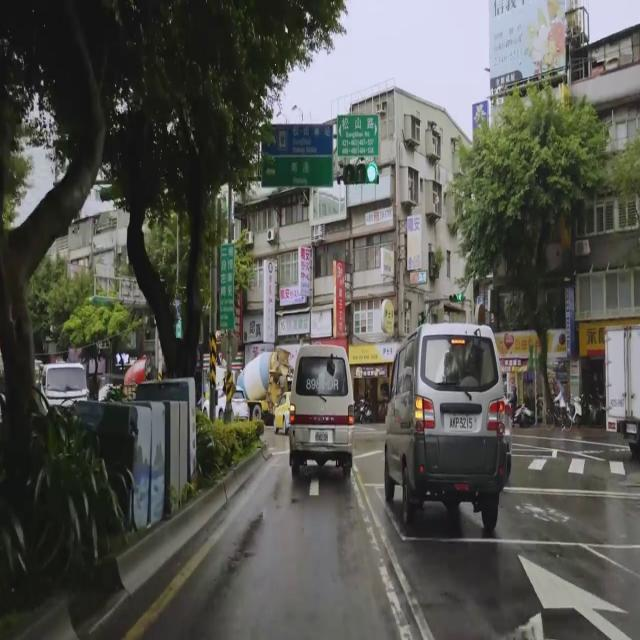green light: (343, 162, 379, 186)
